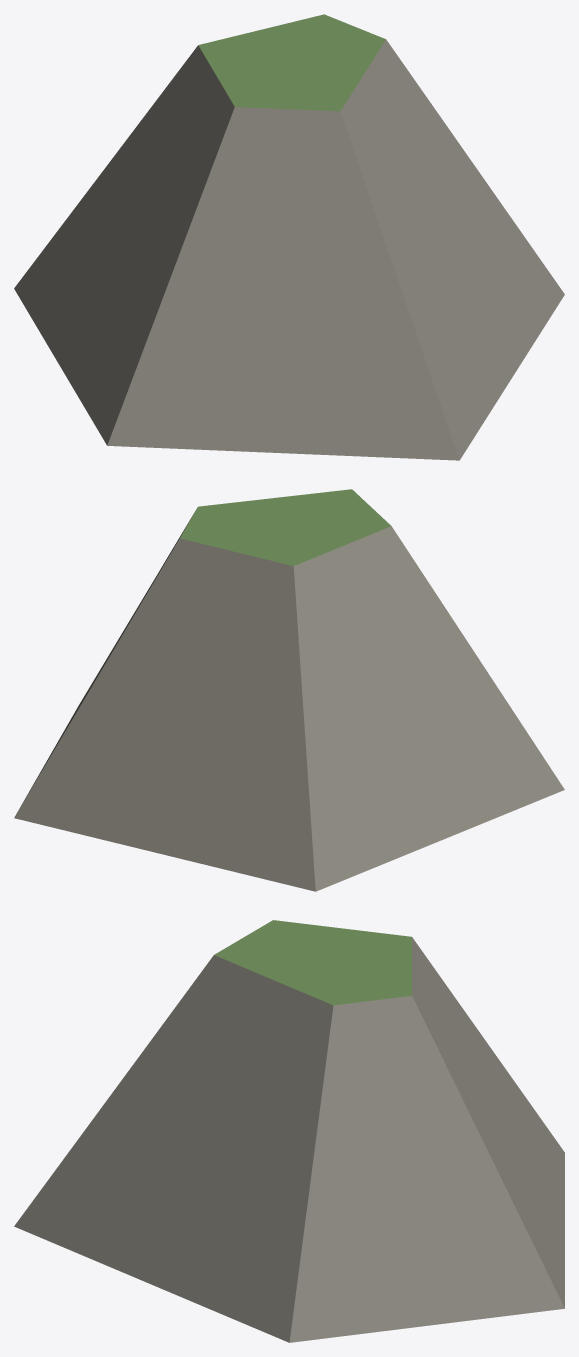
The model's file is rock_smallA.glb.
3 renders of one model, top to bottom at view 1: azimuth 30°, elevation 25°; view 2: azimuth 150°, elevation 25°; view 3: azimuth 270°, elevation 25°, orthographic. The views are drawn at different scales.
Parts seen in each view (by area): view 1: rock_smallA; view 2: rock_smallA; view 3: rock_smallA.
Part boxes in pixels (x1=…): rock_smallA: x1=14, y1=14, x2=564, y2=460; rock_smallA: x1=14, y1=489, x2=564, y2=891; rock_smallA: x1=14, y1=920, x2=564, y2=1342.
Size of the model in its own units: 1.23 by 0.65 by 1.23.
